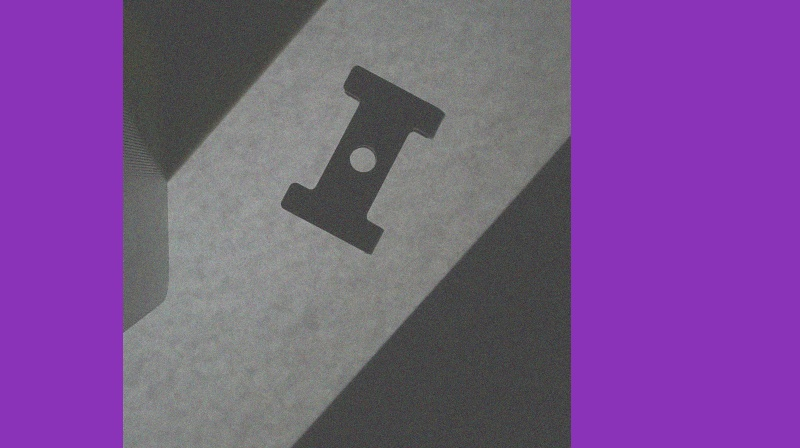O002: (276, 62, 446, 256)
